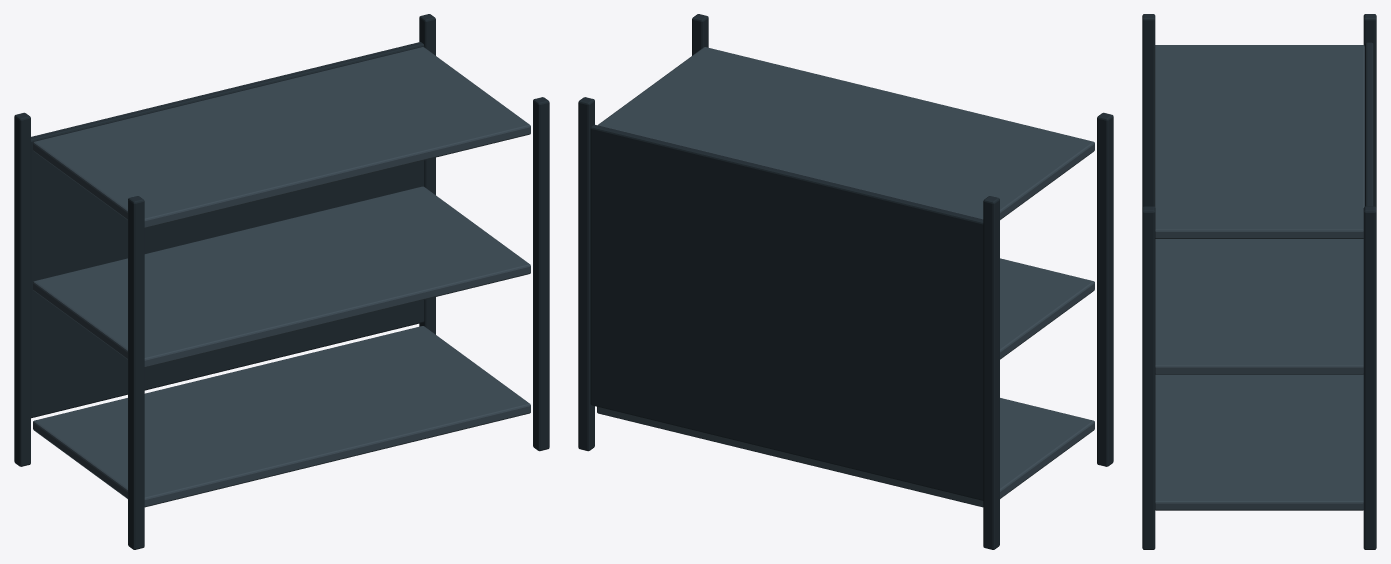
File: CC_S16_P2_Furniture_CentralShelf_LOD0.fbx
The picture shows the model from 3 angles, left to right: view 1: azimuth 30°, elevation 25°; view 2: azimuth 150°, elevation 25°; view 3: azimuth 270°, elevation 25°; orthographic projection. The views are drawn at different scales.
Visible parts, largest first — view 1: CC_S16_P2_Furniture_CentralShelf_LOD0, CC_S16_P2_Furniture_CentralShelf_LOD0_Back, CC_S16_P2_Furniture_CentralShelf_LOD0_Post.001, CC_S16_P2_Furniture_CentralShelf_LOD0_Post.002, CC_S16_P2_Furniture_CentralShelf_LOD0_Post, CC_S16_P2_Furniture_CentralShelf_LOD0_Post.003; view 2: CC_S16_P2_Furniture_CentralShelf_LOD0_Back, CC_S16_P2_Furniture_CentralShelf_LOD0, CC_S16_P2_Furniture_CentralShelf_LOD0_Post, CC_S16_P2_Furniture_CentralShelf_LOD0_Post.001, CC_S16_P2_Furniture_CentralShelf_LOD0_Post.003; view 3: CC_S16_P2_Furniture_CentralShelf_LOD0, CC_S16_P2_Furniture_CentralShelf_LOD0_Post.002, CC_S16_P2_Furniture_CentralShelf_LOD0_Post.003, CC_S16_P2_Furniture_CentralShelf_LOD0_Post, CC_S16_P2_Furniture_CentralShelf_LOD0_Back, CC_S16_P2_Furniture_CentralShelf_LOD0_Post.001.
Boxes of the visible parts, bbox=[...] form: CC_S16_P2_Furniture_CentralShelf_LOD0: bbox=[33, 47, 530, 507]; CC_S16_P2_Furniture_CentralShelf_LOD0_Back: bbox=[31, 42, 424, 418]; CC_S16_P2_Furniture_CentralShelf_LOD0_Post.001: bbox=[14, 112, 30, 466]; CC_S16_P2_Furniture_CentralShelf_LOD0_Post.002: bbox=[533, 97, 549, 451]; CC_S16_P2_Furniture_CentralShelf_LOD0_Post: bbox=[128, 196, 144, 549]; CC_S16_P2_Furniture_CentralShelf_LOD0_Post.003: bbox=[419, 14, 435, 334]; CC_S16_P2_Furniture_CentralShelf_LOD0_Back: bbox=[590, 124, 983, 500]; CC_S16_P2_Furniture_CentralShelf_LOD0: bbox=[597, 47, 1094, 507]; CC_S16_P2_Furniture_CentralShelf_LOD0_Post: bbox=[1097, 112, 1113, 466]; CC_S16_P2_Furniture_CentralShelf_LOD0_Post.001: bbox=[983, 196, 999, 549]; CC_S16_P2_Furniture_CentralShelf_LOD0_Post.003: bbox=[578, 97, 594, 451]; CC_S16_P2_Furniture_CentralShelf_LOD0: bbox=[1154, 45, 1364, 510]; CC_S16_P2_Furniture_CentralShelf_LOD0_Post.002: bbox=[1142, 206, 1155, 549]; CC_S16_P2_Furniture_CentralShelf_LOD0_Post.003: bbox=[1363, 206, 1376, 549]; CC_S16_P2_Furniture_CentralShelf_LOD0_Post: bbox=[1142, 14, 1155, 207]; CC_S16_P2_Furniture_CentralShelf_LOD0_Back: bbox=[1365, 42, 1373, 206]; CC_S16_P2_Furniture_CentralShelf_LOD0_Post.001: bbox=[1363, 14, 1376, 207].
Size of what is drawn, in the model's own units: 2 by 1.6 by 1.
